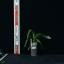leaf: (24, 35, 34, 47), (34, 33, 51, 39), (36, 38, 43, 49), (27, 30, 35, 39), (28, 40, 33, 50), (34, 41, 39, 43)
